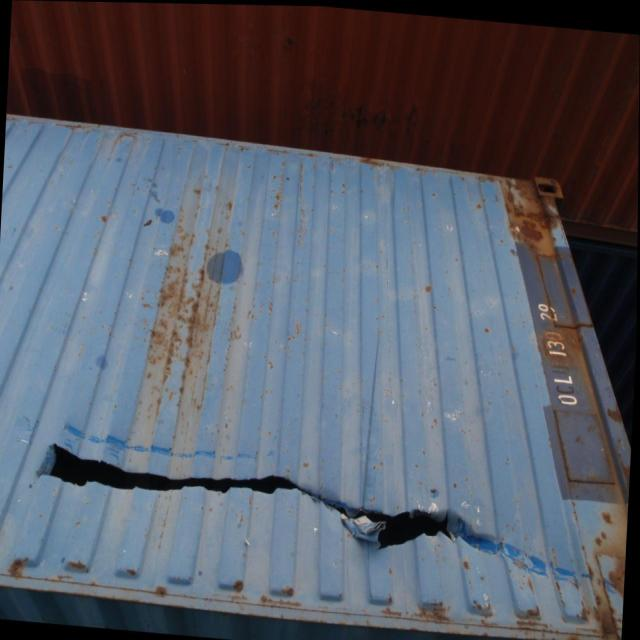hole: (30, 437, 553, 570)
